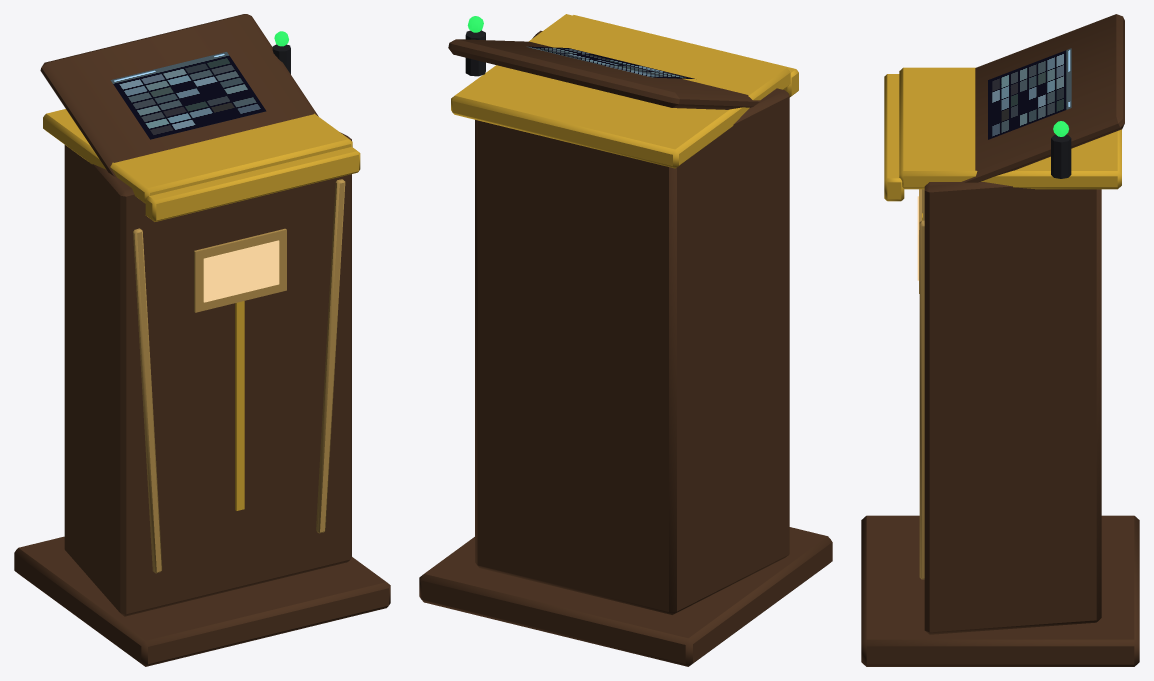
The model's file is console_captain_podium.glb.
3 renders of one model, left to right at view 1: azimuth 30°, elevation 25°; view 2: azimuth 150°, elevation 25°; view 3: azimuth 270°, elevation 25°, orthographic. The views are drawn at different scales.
Visible parts, largest first — view 1: console_captain_podium; view 2: console_captain_podium; view 3: console_captain_podium.
Boxes of the visible parts, <box> form: console_captain_podium: <box>14,14,390,666</box>; console_captain_podium: <box>419,14,832,666</box>; console_captain_podium: <box>861,14,1139,666</box>.
Size of the model in its own units: 0.6 by 1.18 by 0.55.
10 materials, 1 textured.
